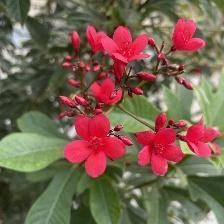jatropha: (65, 114, 130, 179)
